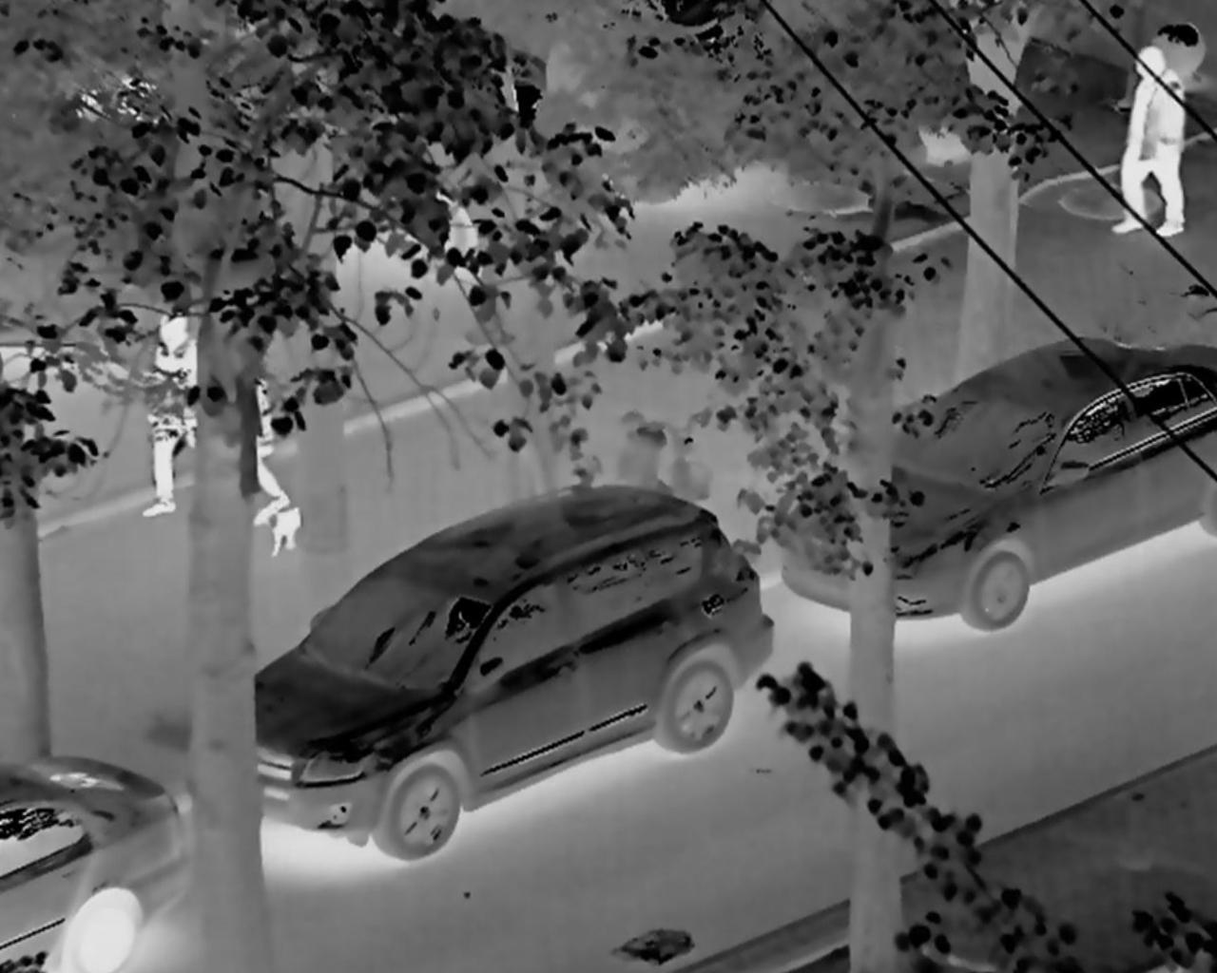person: (1094, 41, 1207, 267), (106, 282, 213, 516)
